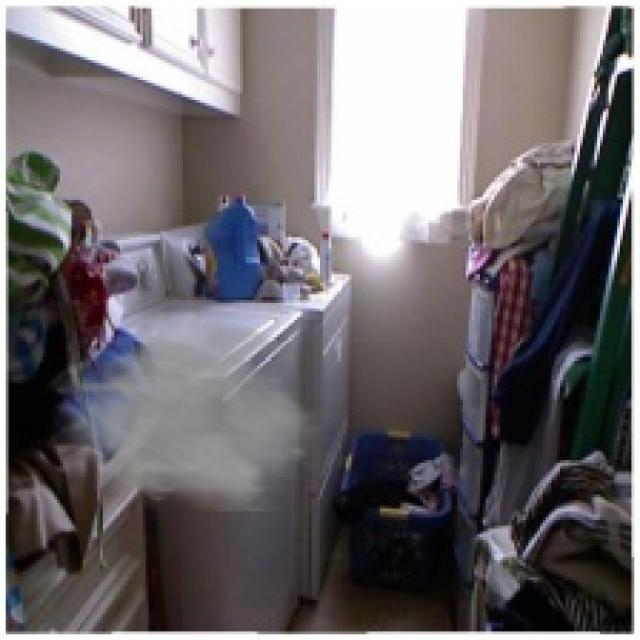smoke: (43, 308, 326, 512)
